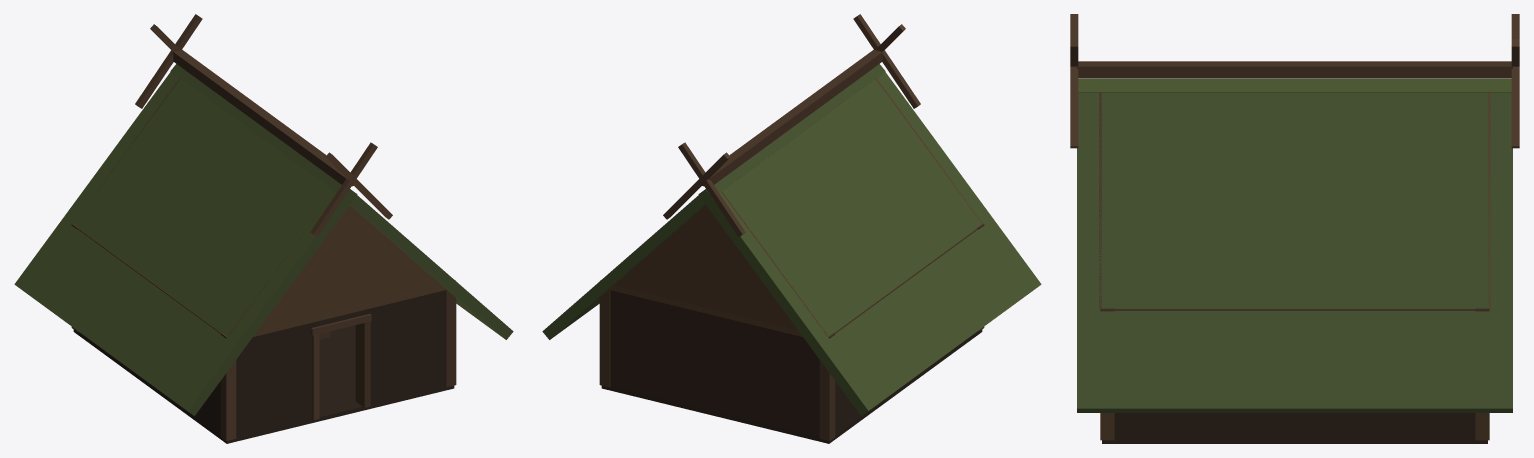
The model's file is walk_rime_house.glb.
The picture shows the model from 3 angles, left to right: view 1: azimuth 30°, elevation 25°; view 2: azimuth 150°, elevation 25°; view 3: azimuth 270°, elevation 25°; orthographic projection. The views are drawn at different scales.
Parts seen in each view (by area): view 1: walk_rime_house_roof, walk_rime_house; view 2: walk_rime_house_roof, walk_rime_house; view 3: walk_rime_house_roof, walk_rime_house.
Boxes of the visible parts, x1,y1,x2,y2 form: walk_rime_house_roof: (14,14,513,415); walk_rime_house: (71,223,456,443); walk_rime_house_roof: (542,14,1041,415); walk_rime_house: (599,223,984,443); walk_rime_house_roof: (1070,14,1519,412); walk_rime_house: (1100,308,1489,443).
Size of what is drawn, in the model's own units: 8.6 by 6.95 by 8.14.
2 materials, 2 textured.
